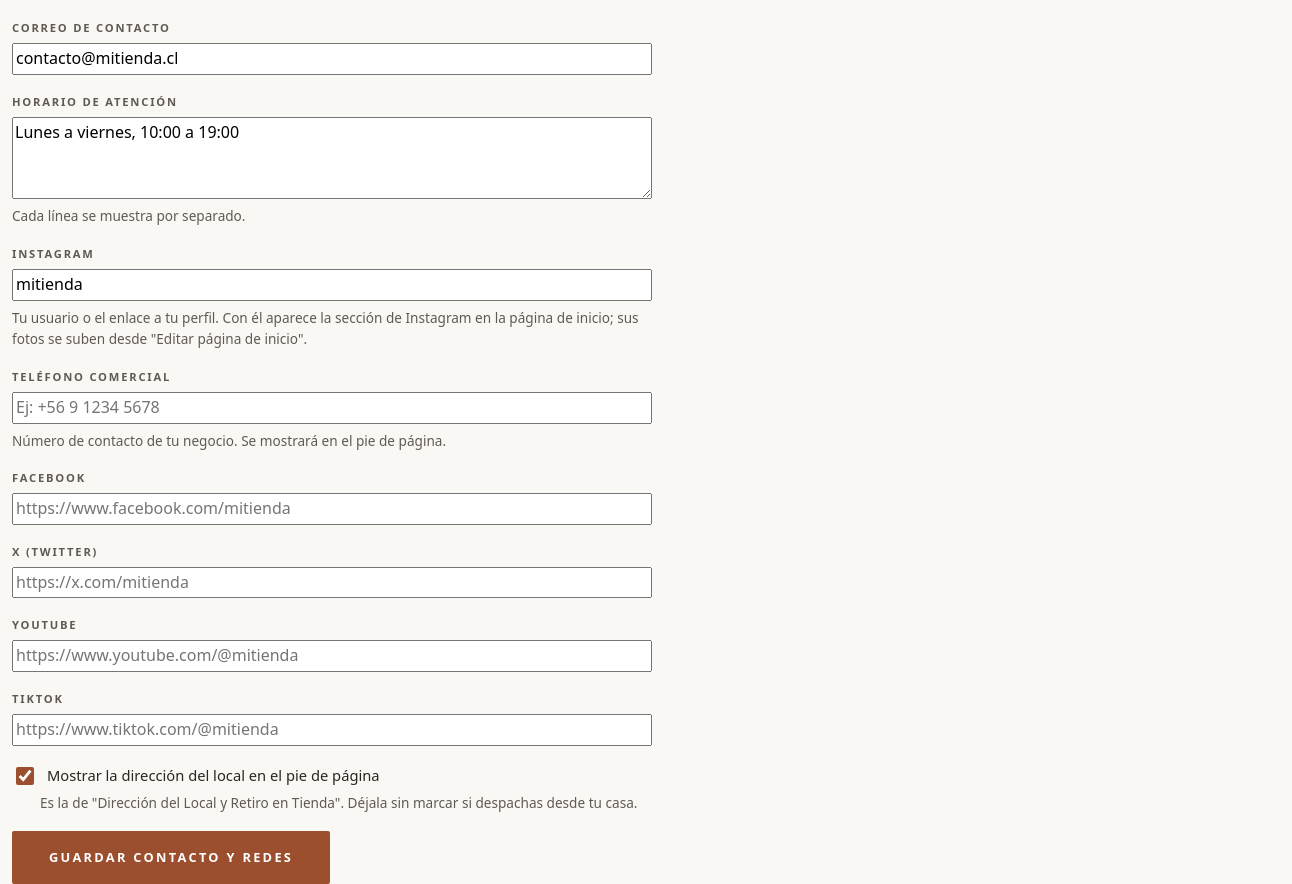
Test: GestorContacto › debe mostrar un mensaje general cuando falla el guardado
The width and height of the screenshot is (1292, 884).
(page scrolled)
Click the button "Guardar contacto y redes". click: (171,858)
box: x1=12 y1=831 x2=330 y2=883
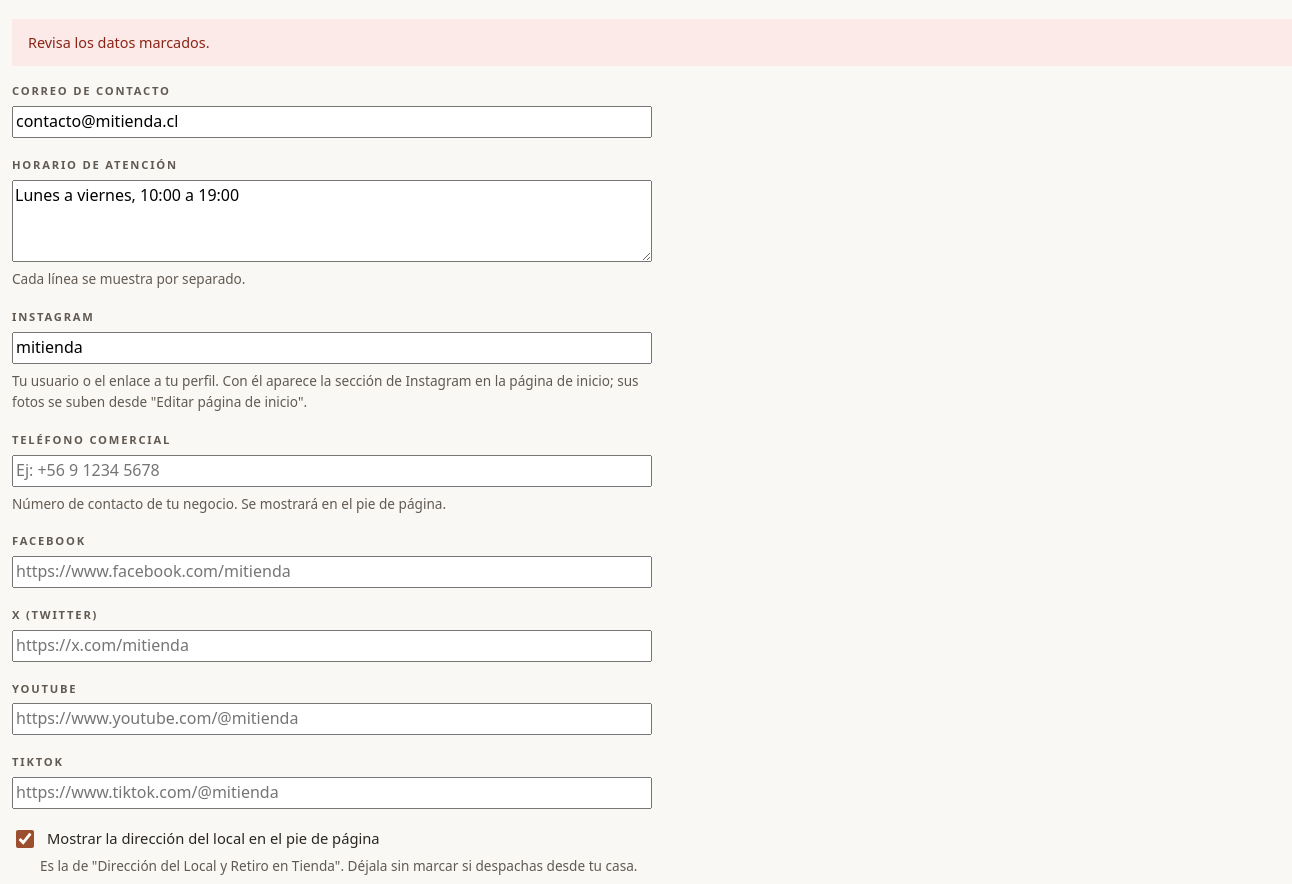
Result: the message reads "Revisa los datos marcados." at x1=28 y1=33 x2=210 y2=52
